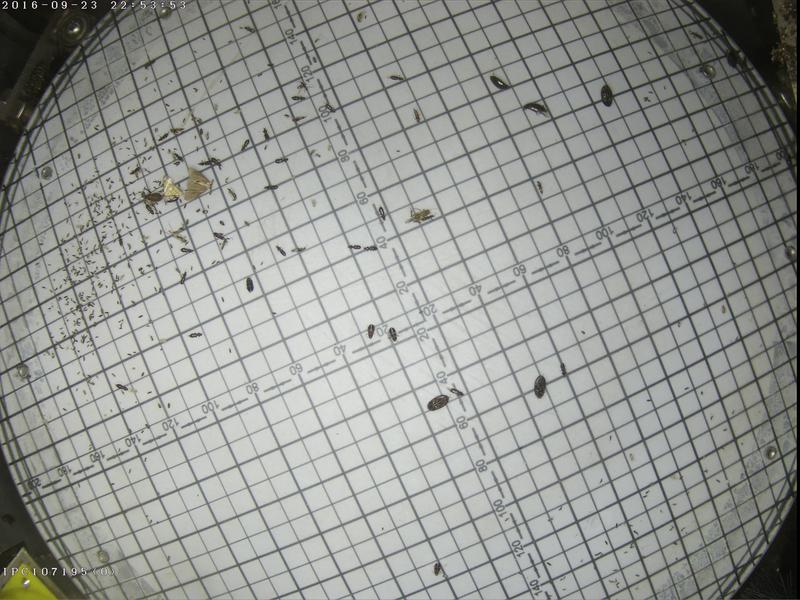Rice Leaf Roller: (160, 174, 179, 196)
